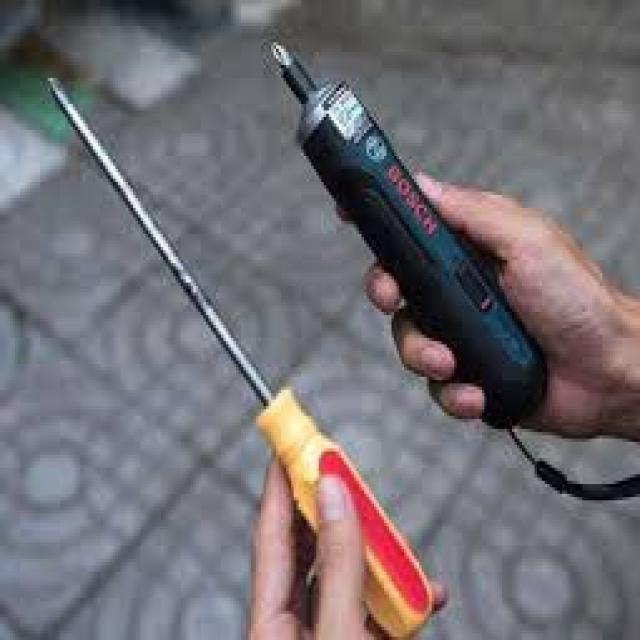screwdriver: (46, 74, 435, 640)
